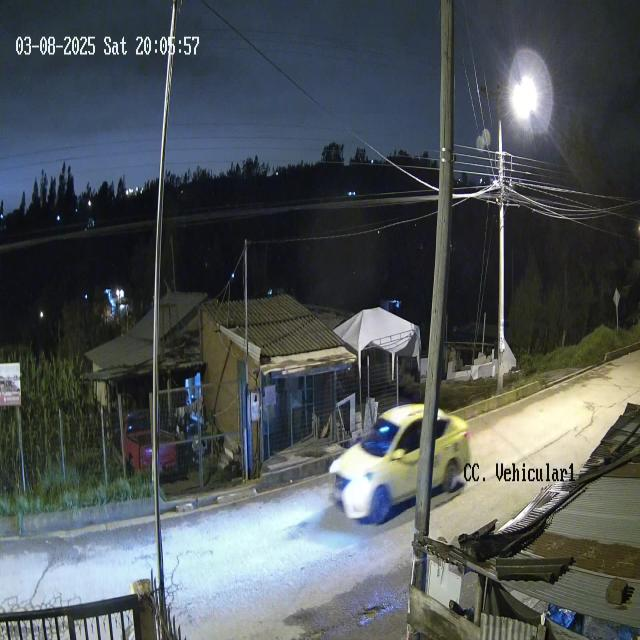SED: (326, 400, 470, 527)
